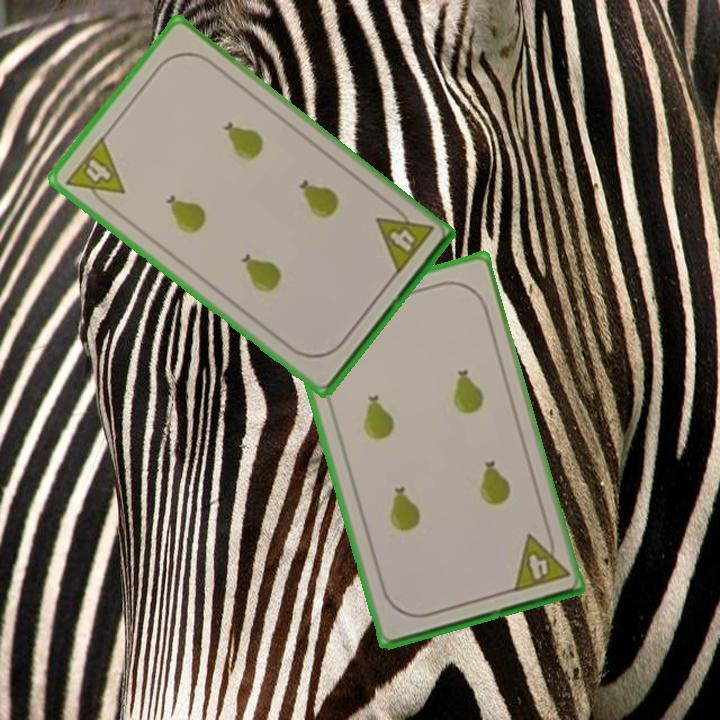4p: (62, 132, 128, 213), (372, 199, 436, 278), (508, 526, 572, 595)
